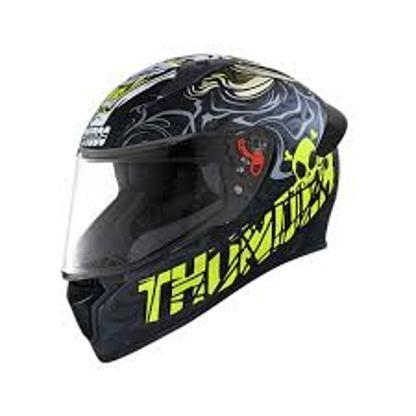not trash: (66, 52, 348, 369)
